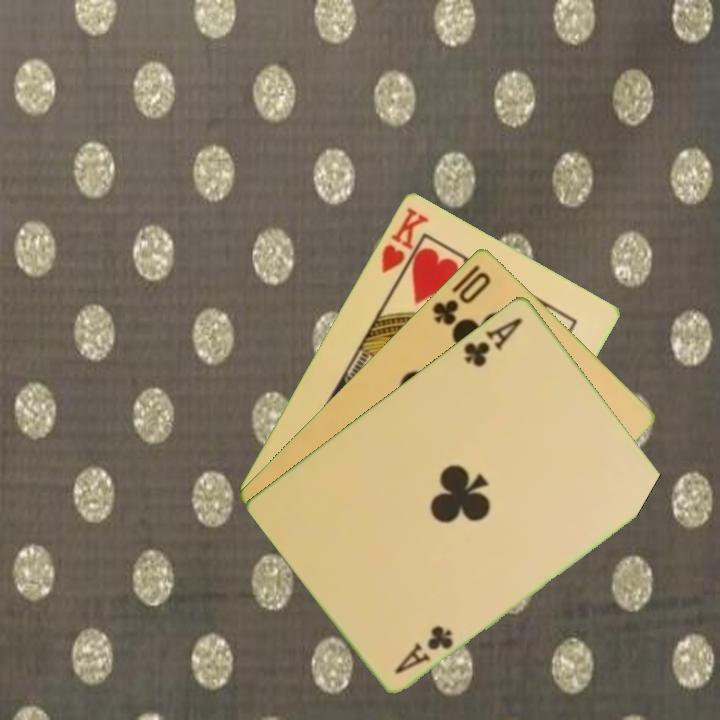10c: (428, 260, 494, 328)
Ac: (391, 620, 456, 677), (460, 313, 526, 369)
Kh: (377, 203, 432, 288)
